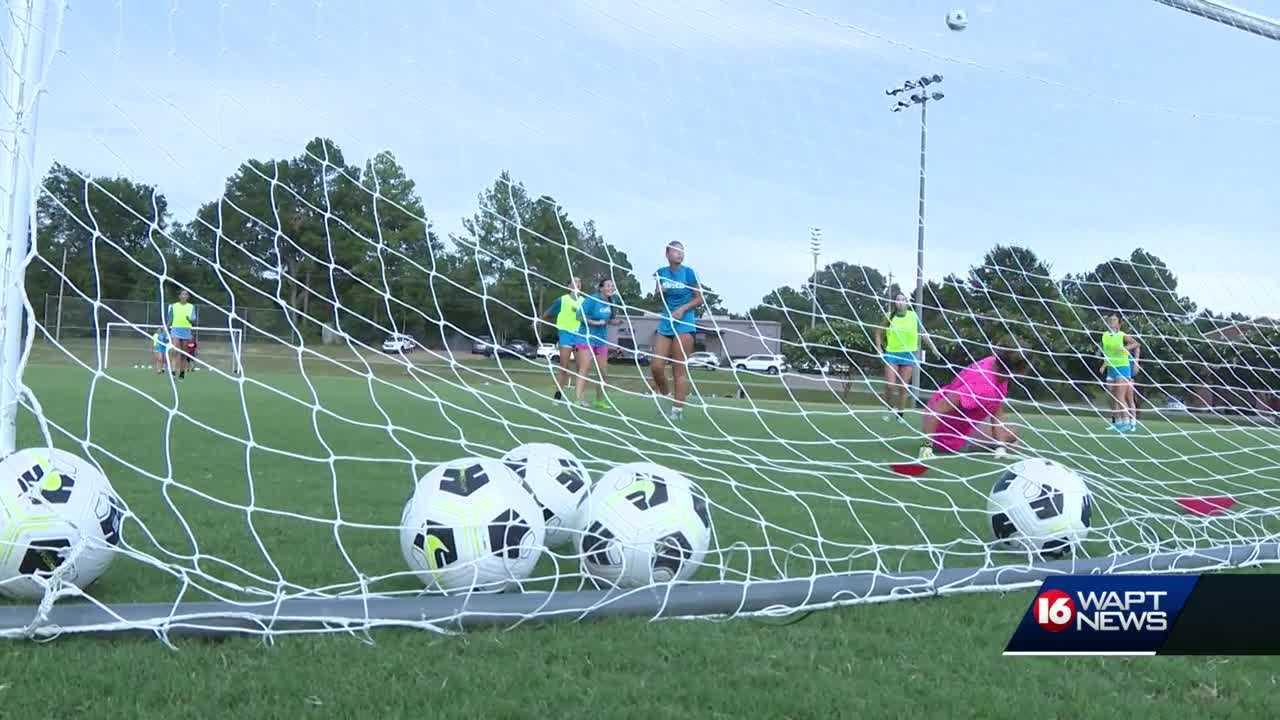ballon_football: (398, 456, 543, 595), (0, 448, 122, 602), (575, 461, 713, 588), (986, 455, 1093, 559)
